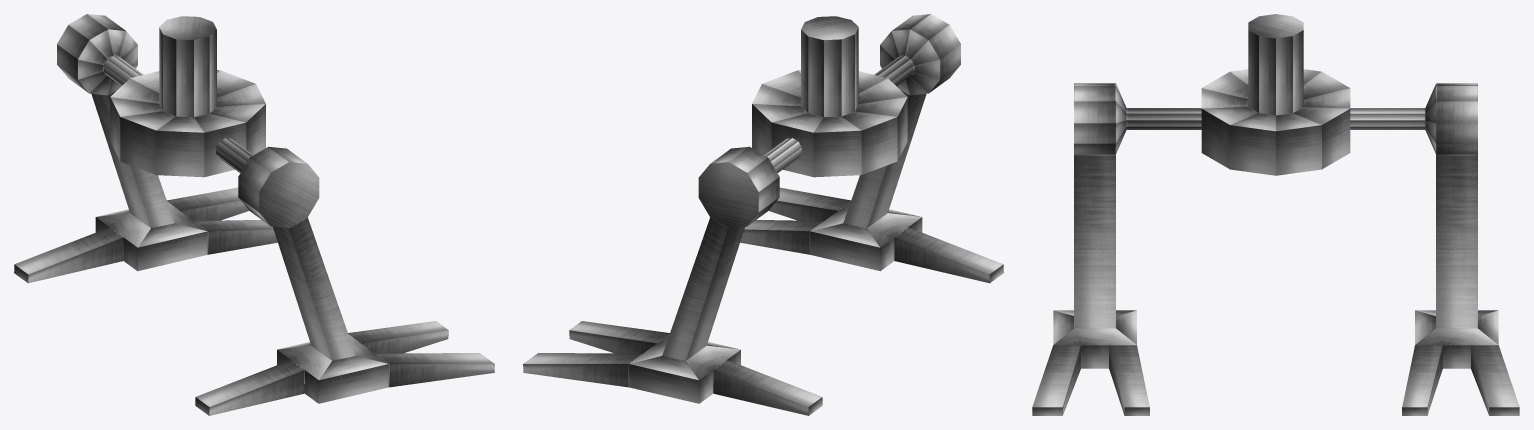
Rendered from mechBottom.obj.
3 renders of one model, left to right at view 1: azimuth 30°, elevation 25°; view 2: azimuth 150°, elevation 25°; view 3: azimuth 270°, elevation 25°, orthographic.
Visible parts, largest first — view 1: Cylinder_Cylinder.004; view 2: Cylinder_Cylinder.004; view 3: Cylinder_Cylinder.004.
Boxes of the visible parts, left/top/right/bottom form: Cylinder_Cylinder.004: left=14, top=14, right=494, bottom=415; Cylinder_Cylinder.004: left=523, top=14, right=1003, bottom=415; Cylinder_Cylinder.004: left=1032, top=14, right=1519, bottom=415.
Size of the model in its own units: 1.69 by 1.86 by 2.74.
1 material, 1 textured.
